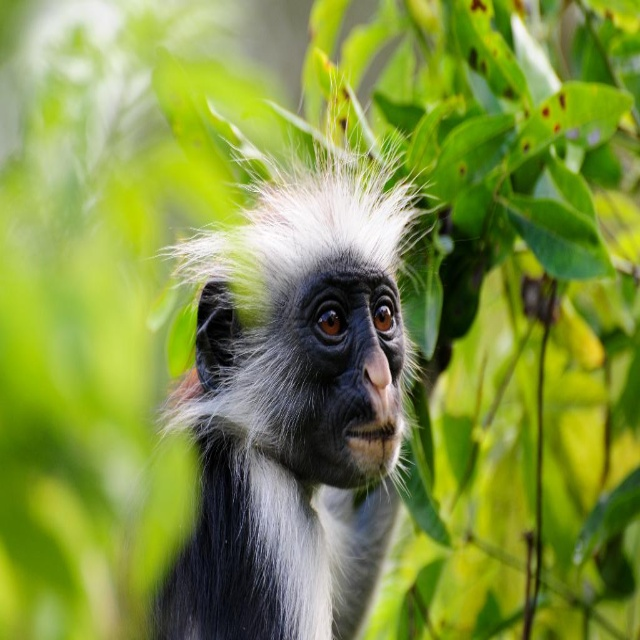Monkey: (133, 108, 434, 640)
